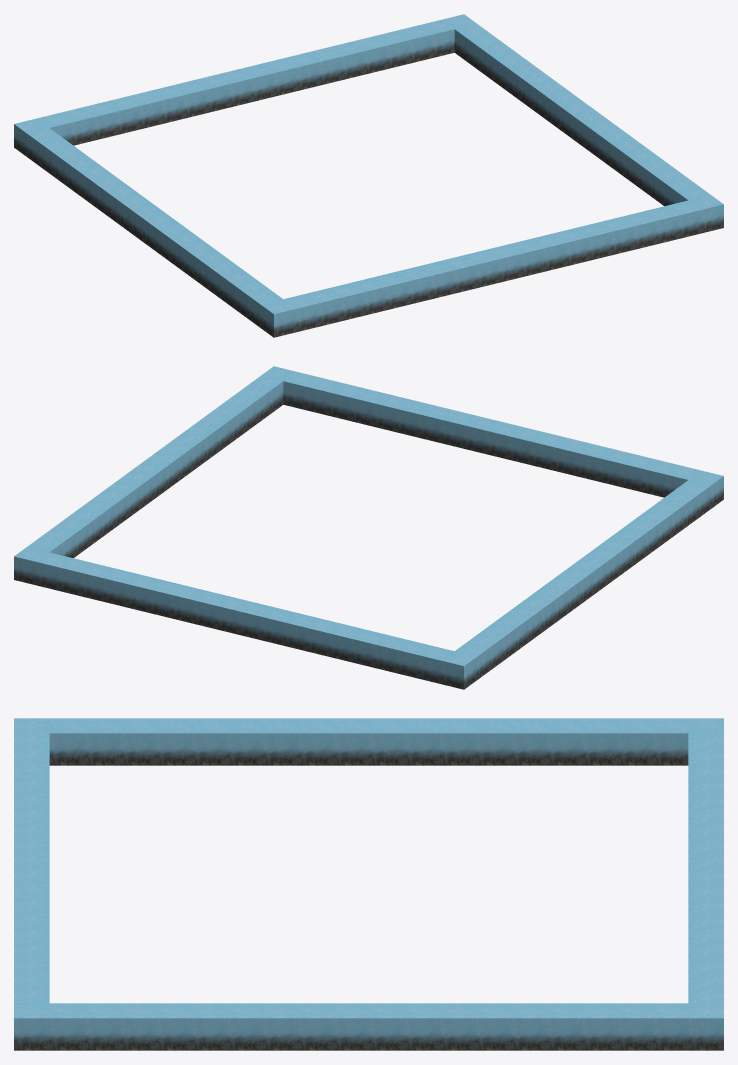
The model's file is Stage_Block_3_4_2F.fbx.
The picture shows the model from 3 angles, top to bottom: view 1: azimuth 30°, elevation 25°; view 2: azimuth 150°, elevation 25°; view 3: azimuth 270°, elevation 25°; orthographic projection. The views are drawn at different scales.
Visible parts, largest first — view 1: Winter_Block36; view 2: Winter_Block36; view 3: Winter_Block36.
Part boxes in pixels (box(x1,y1,x2,y2)): Winter_Block36: box(14, 14, 723, 337); Winter_Block36: box(14, 366, 723, 689); Winter_Block36: box(14, 718, 723, 1050).
Bounding box in the file's own units: 4000 × 200 × 4000.
Materials: 1 (1 with a texture image).
